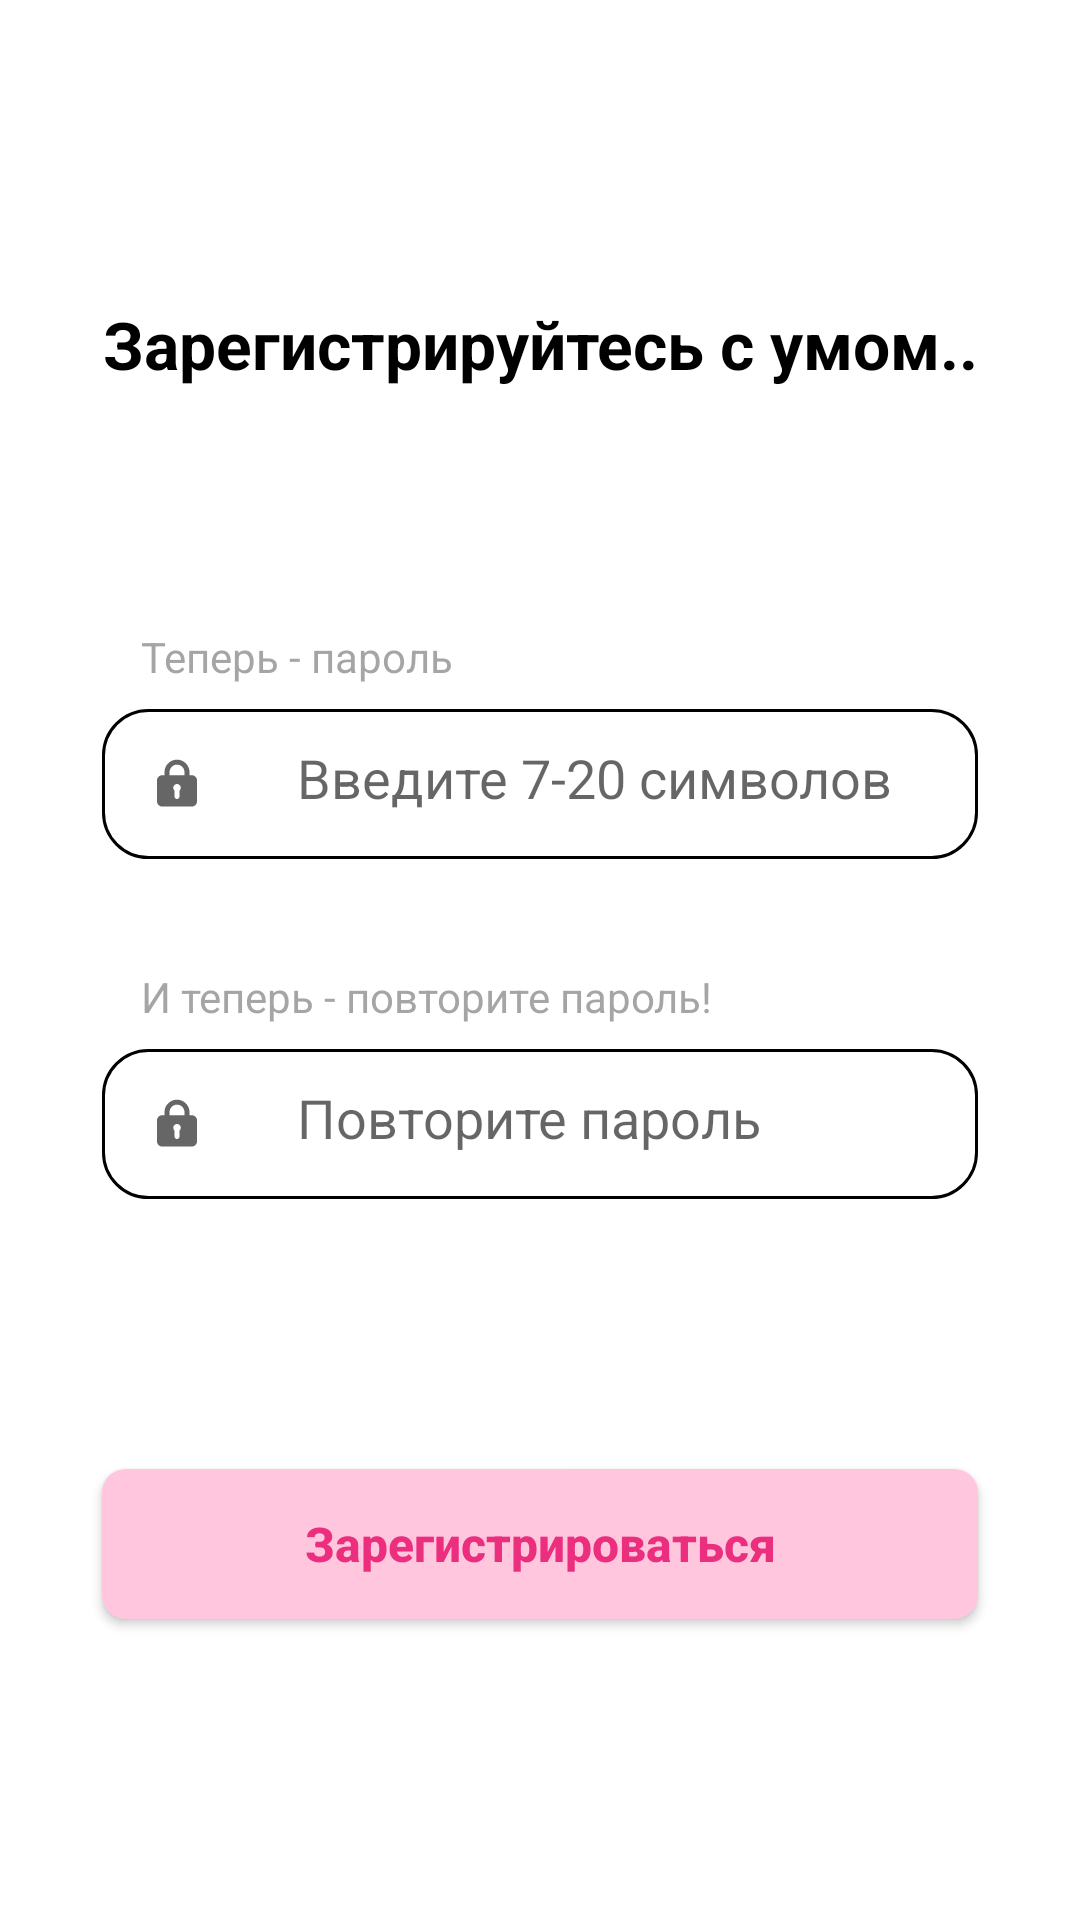

Point at icon controls on the screen. Image size 1080x1920, points as [x,y].
password: [177,783], [177,1123]
